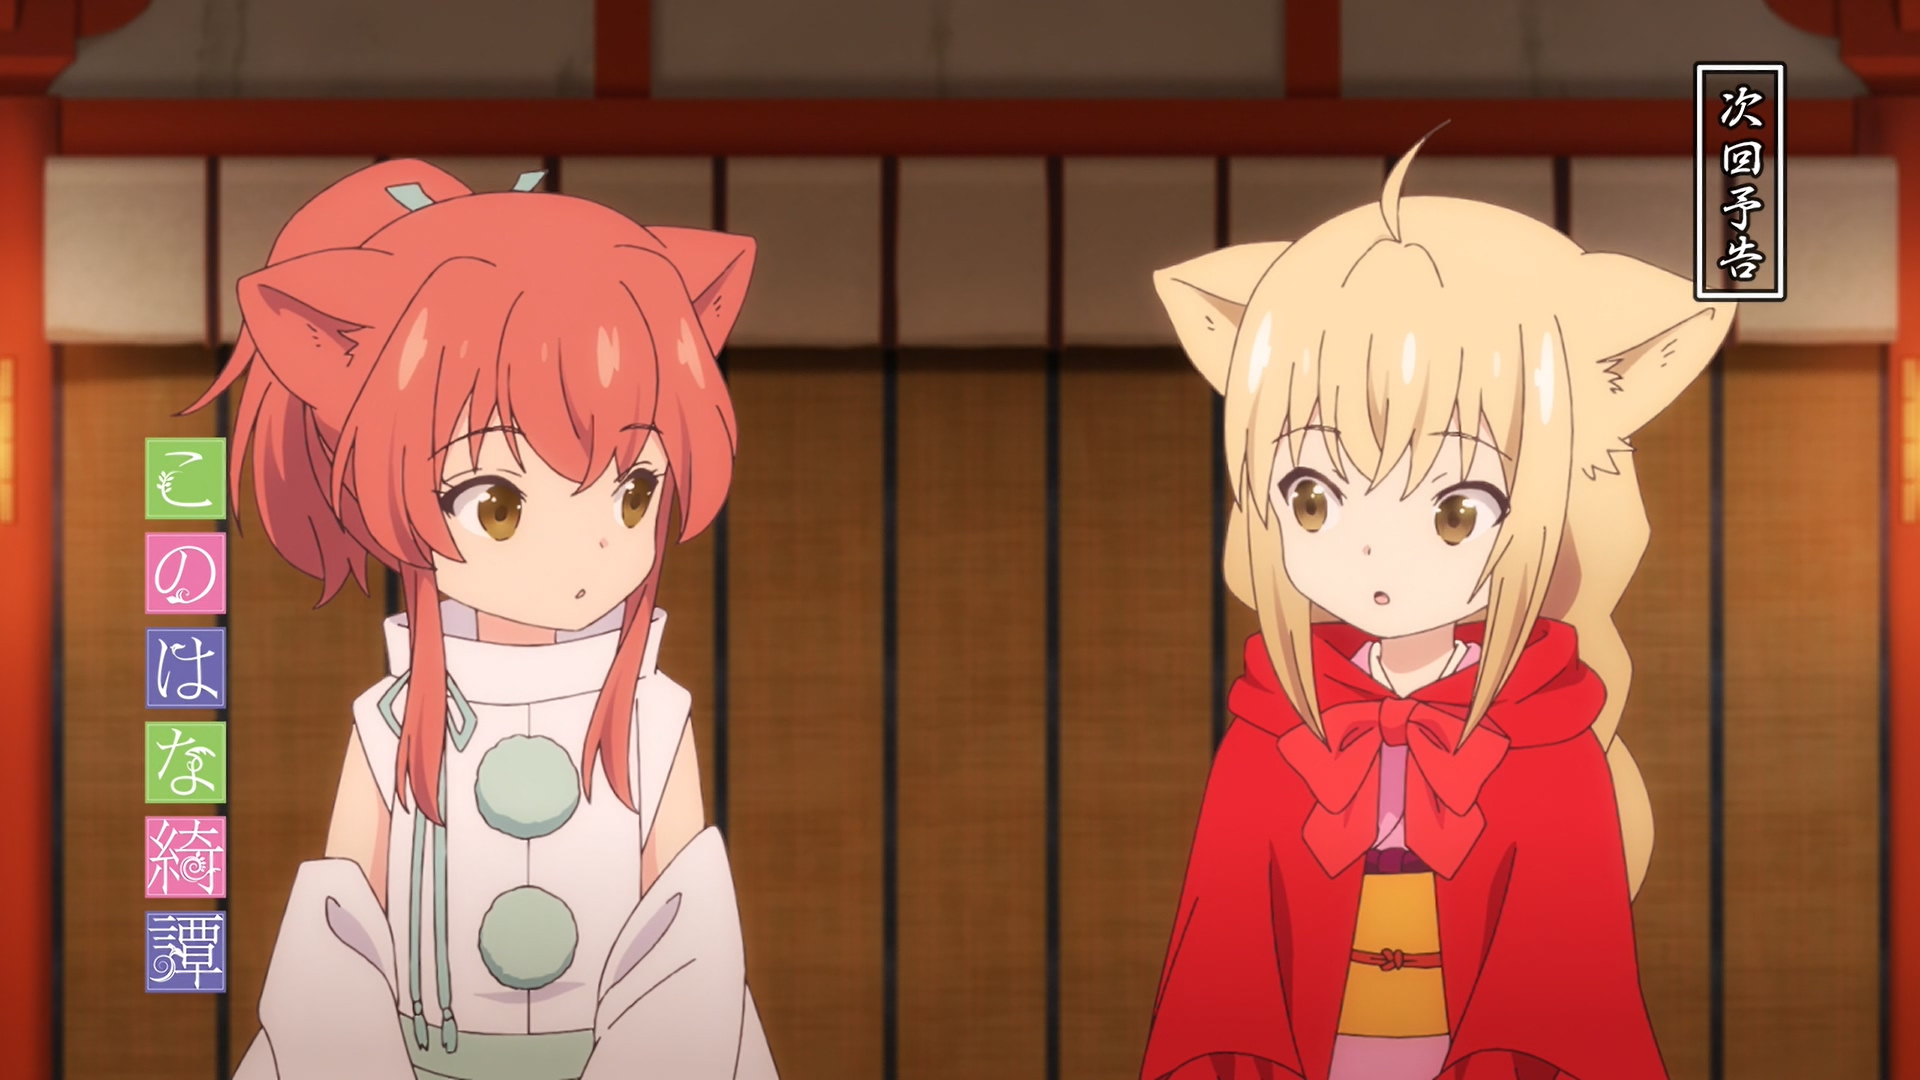柚: (1139, 116, 1735, 1080)
椿: (174, 157, 781, 1080)
